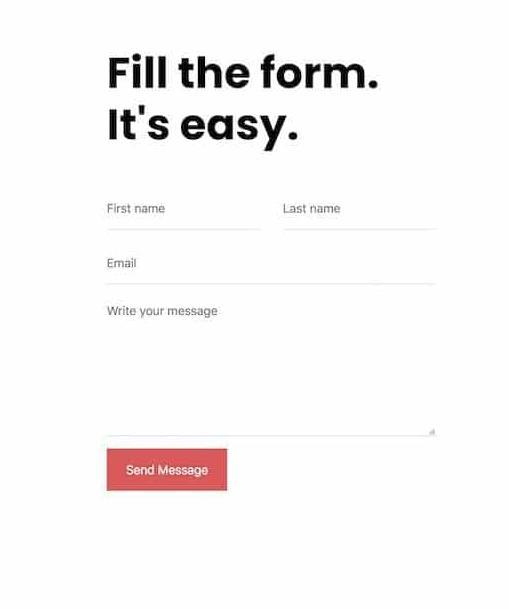button: (106, 449, 231, 493)
label: (104, 54, 385, 94), (104, 104, 314, 153)
